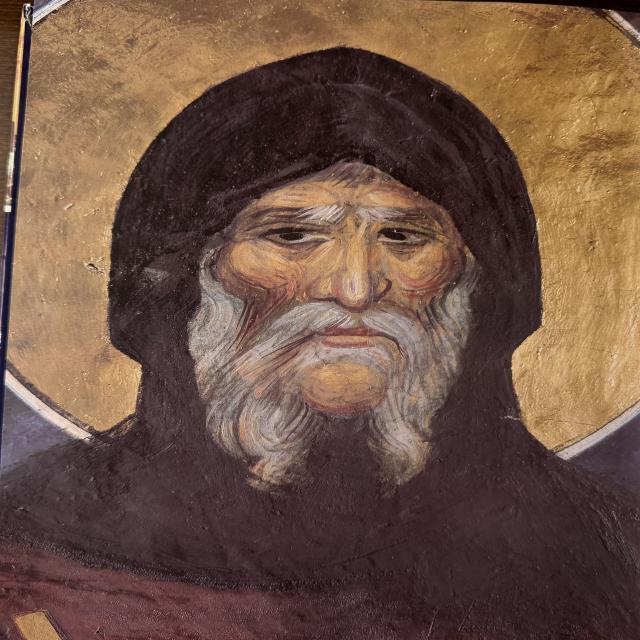aura: (5, 2, 640, 464)
saint: (1, 3, 640, 640)
